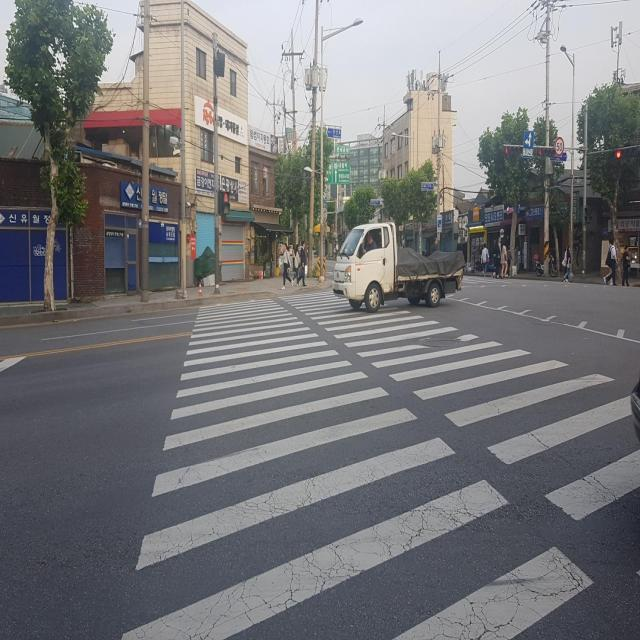빨간불: (218, 191, 230, 216)
횡단보도: (115, 277, 640, 640)
